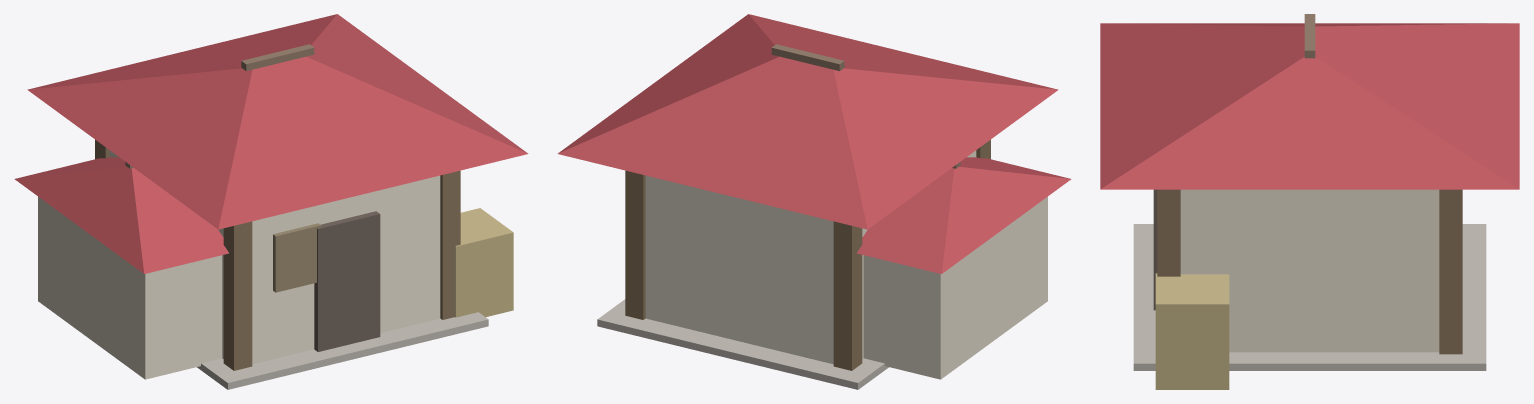
File: farmhouse_c.glb
3 renders of one model, left to right at view 1: azimuth 30°, elevation 25°; view 2: azimuth 150°, elevation 25°; view 3: azimuth 270°, elevation 25°, orthographic. The views are drawn at different scales.
Bounding box in the file's own units: 4.4 × 2.83 × 4.
